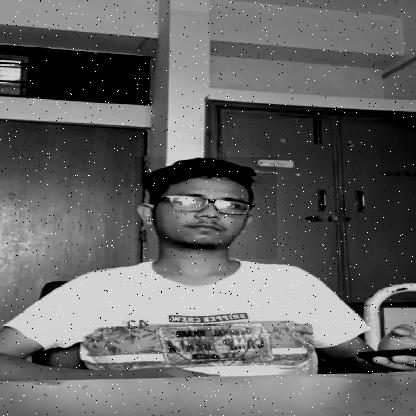Normal: (135, 157, 277, 259)
